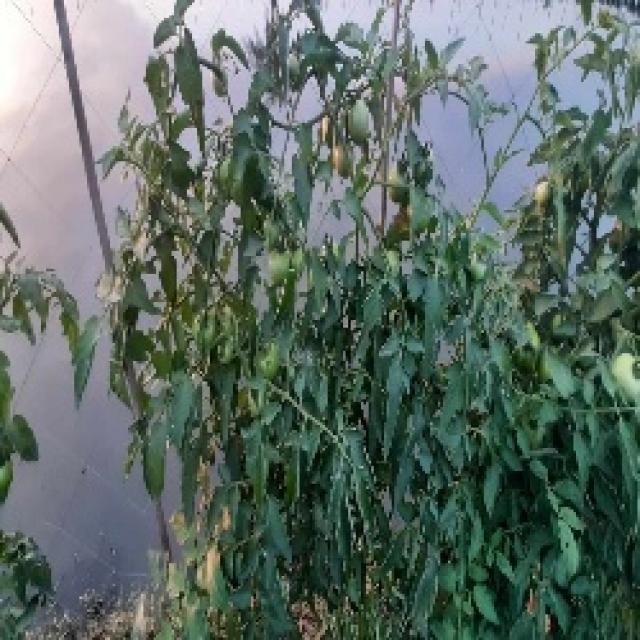tomato: (344, 94, 377, 145), (613, 344, 640, 406), (389, 162, 417, 206), (250, 343, 282, 379), (271, 241, 294, 283), (192, 311, 219, 340), (214, 159, 232, 199), (332, 145, 353, 179), (532, 182, 549, 208)
